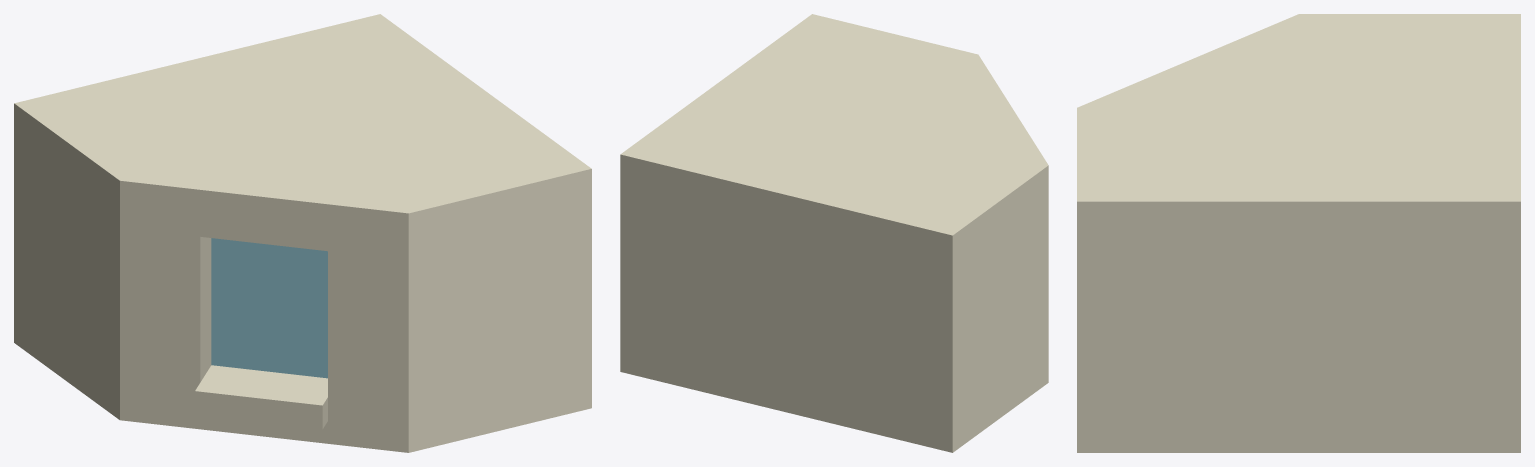
Rendered from modularBuildings_039.fbx.
3 renders of one model, left to right at view 1: azimuth 30°, elevation 25°; view 2: azimuth 150°, elevation 25°; view 3: azimuth 270°, elevation 25°, orthographic. The views are drawn at different scales.
Visible parts, largest first — view 1: Mesh1_Group1 Model; view 2: Mesh1_Group1 Model; view 3: Mesh1_Group1 Model.
Boxes of the visible parts, x1,y1,x2,y2 form: Mesh1_Group1 Model: [14, 14, 591, 452]; Mesh1_Group1 Model: [620, 14, 1048, 452]; Mesh1_Group1 Model: [1077, 14, 1520, 452].
Bounding box in the file's own units: 1 × 0.625 × 1.
